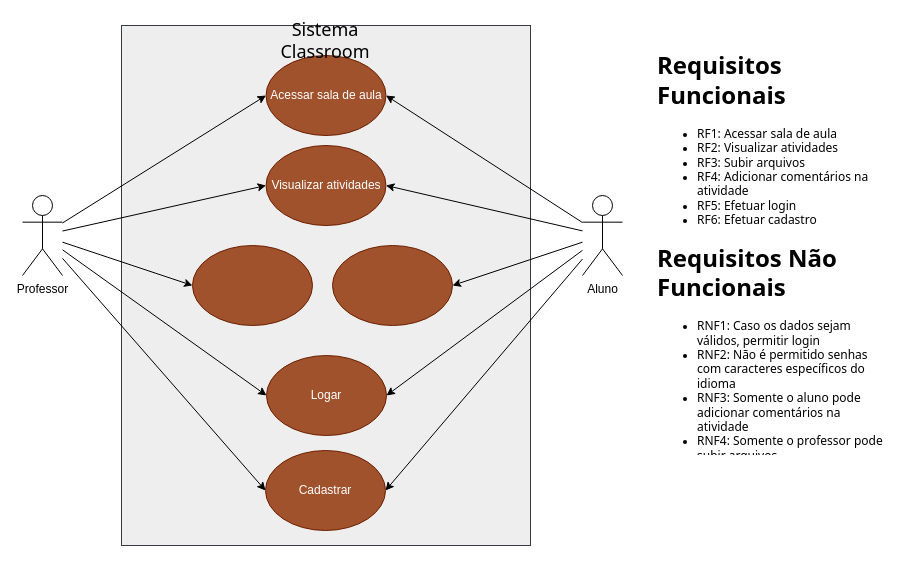
The diagram is 910 pixels wide and 563 high, and some of its shapes have lost their labels. The centre of each missing label's shape, as x and y in pixels:
Adicionar comentários na atividade: pixel 392 285
Subir arquivos: pixel 252 285
